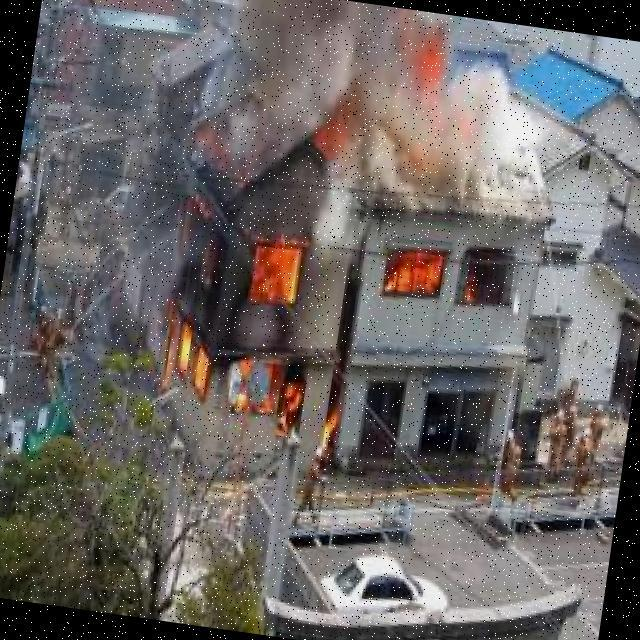Fire: (159, 214, 331, 451), (387, 34, 487, 167), (386, 243, 456, 305)
